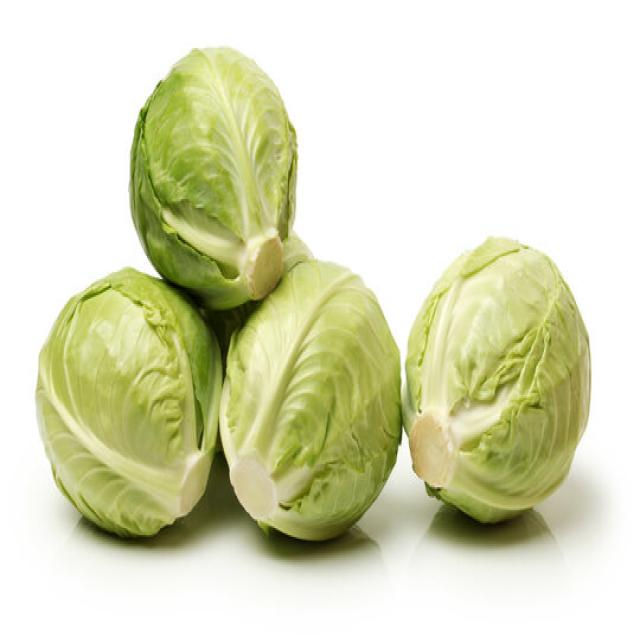Cabbage: (400, 233, 592, 524), (218, 256, 402, 542), (34, 265, 223, 539), (126, 43, 298, 309)
